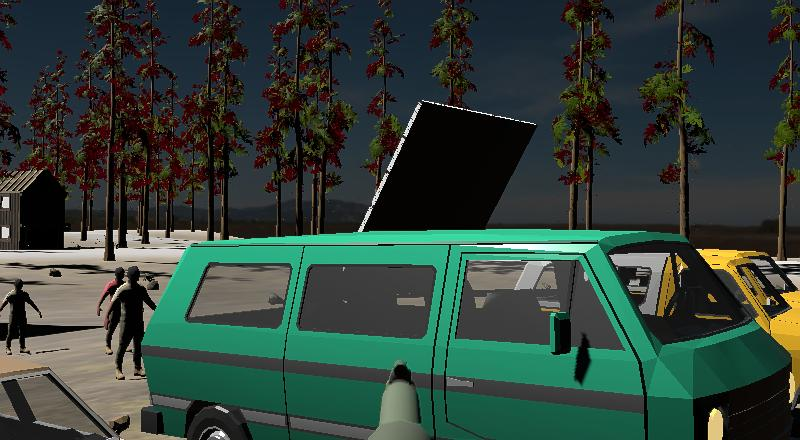House: (0, 168, 67, 250)
Human: (0, 277, 44, 355), (96, 262, 126, 357)
car: (138, 237, 770, 440), (0, 357, 268, 440), (694, 248, 800, 380)
